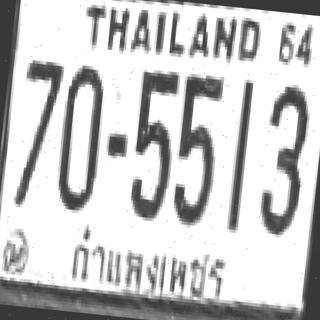N00: (54, 62, 106, 210)
N01: (227, 79, 252, 212)
N03: (256, 82, 310, 233)
N05: (170, 70, 224, 224), (133, 65, 179, 161)
N07: (12, 56, 64, 207)
P16: (64, 219, 236, 303)
